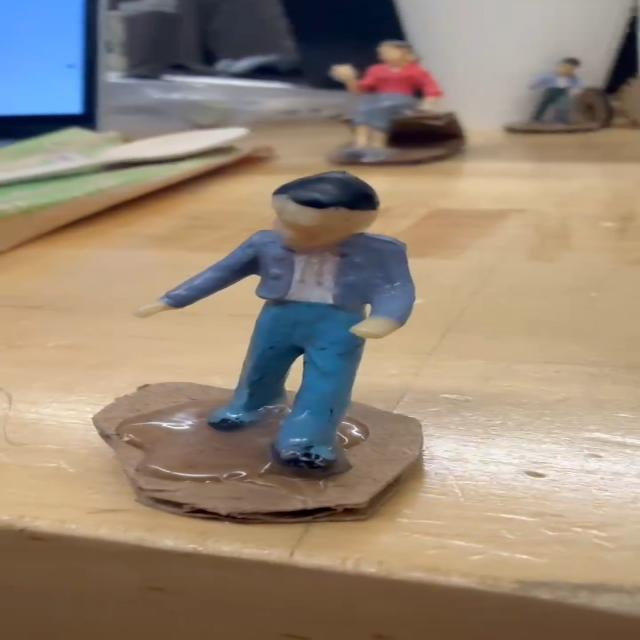Authorized: (113, 150, 432, 524)
